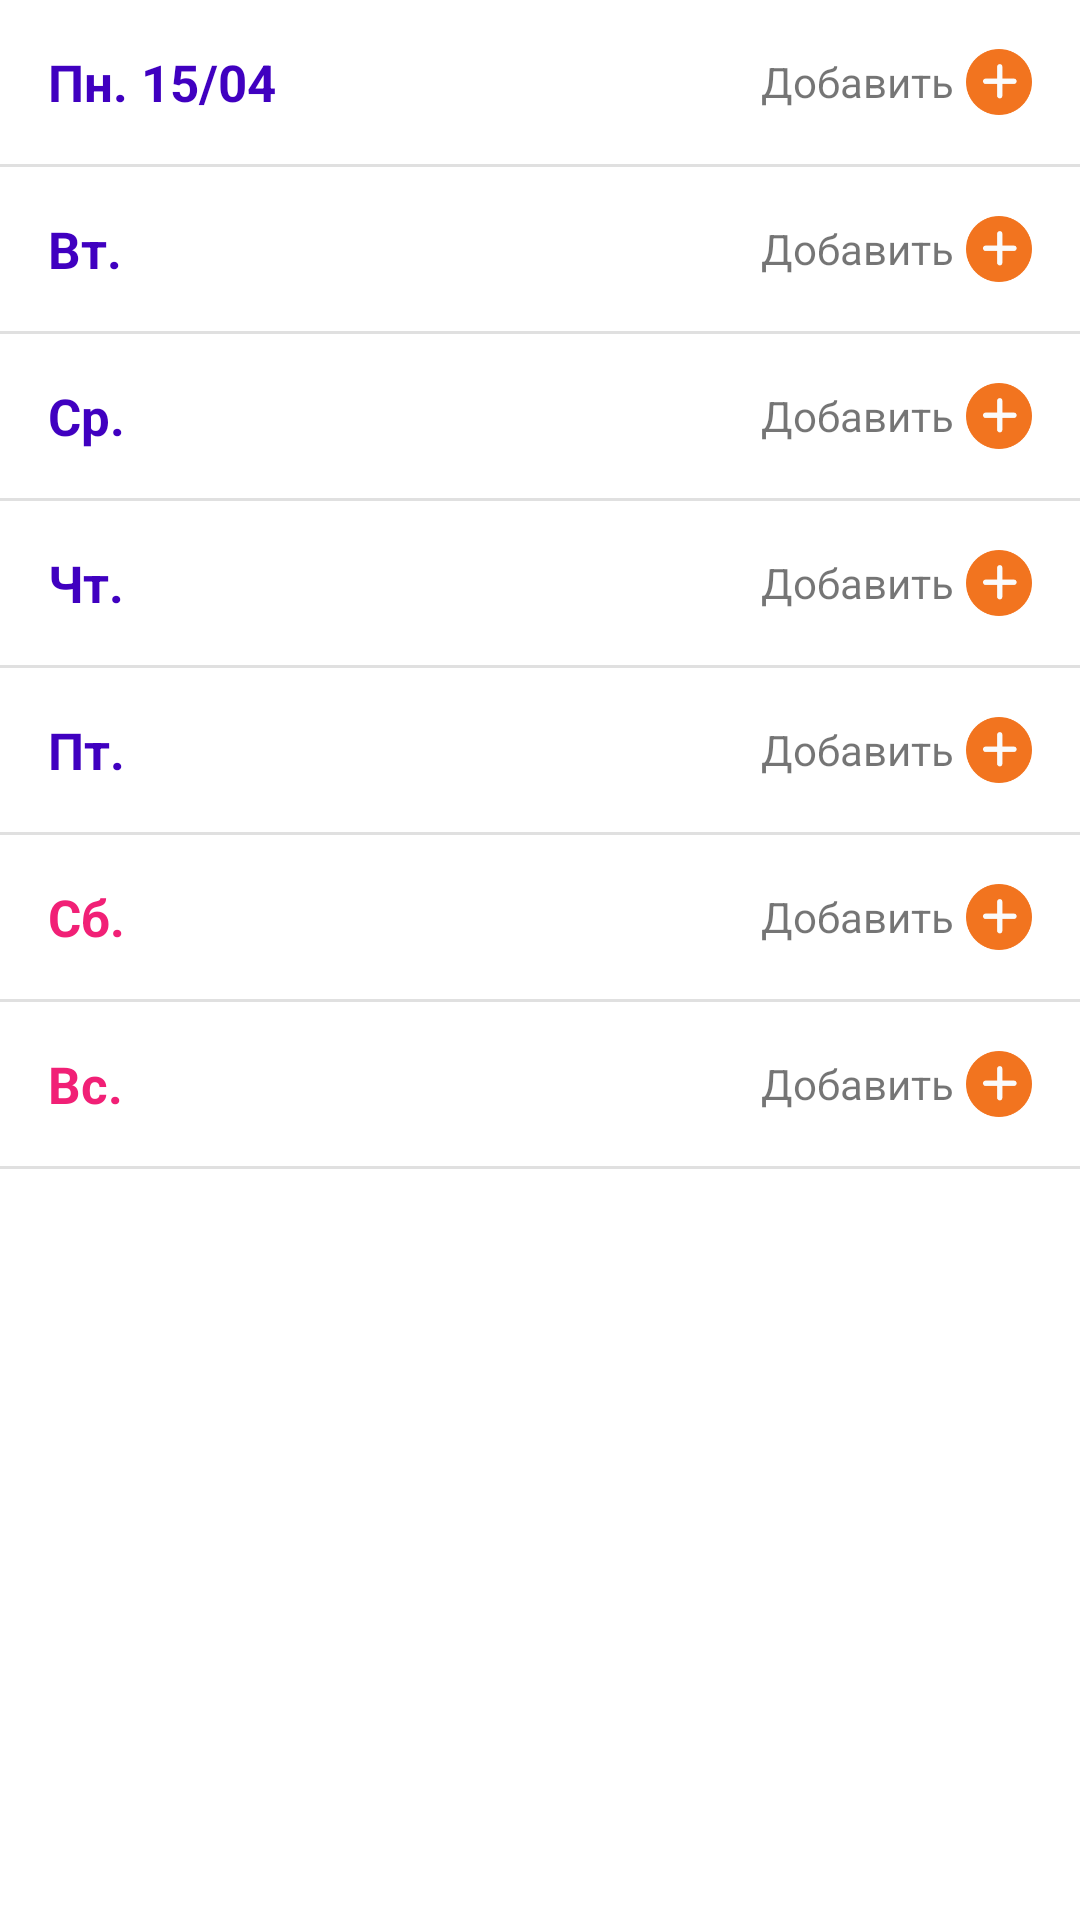

Point at icon controls on the screen. Image size 1080 x 1920, points as point (x, y).
add: point (999, 82), point (999, 249), point (999, 416), point (999, 583), point (999, 750), point (999, 917), point (999, 1084)
